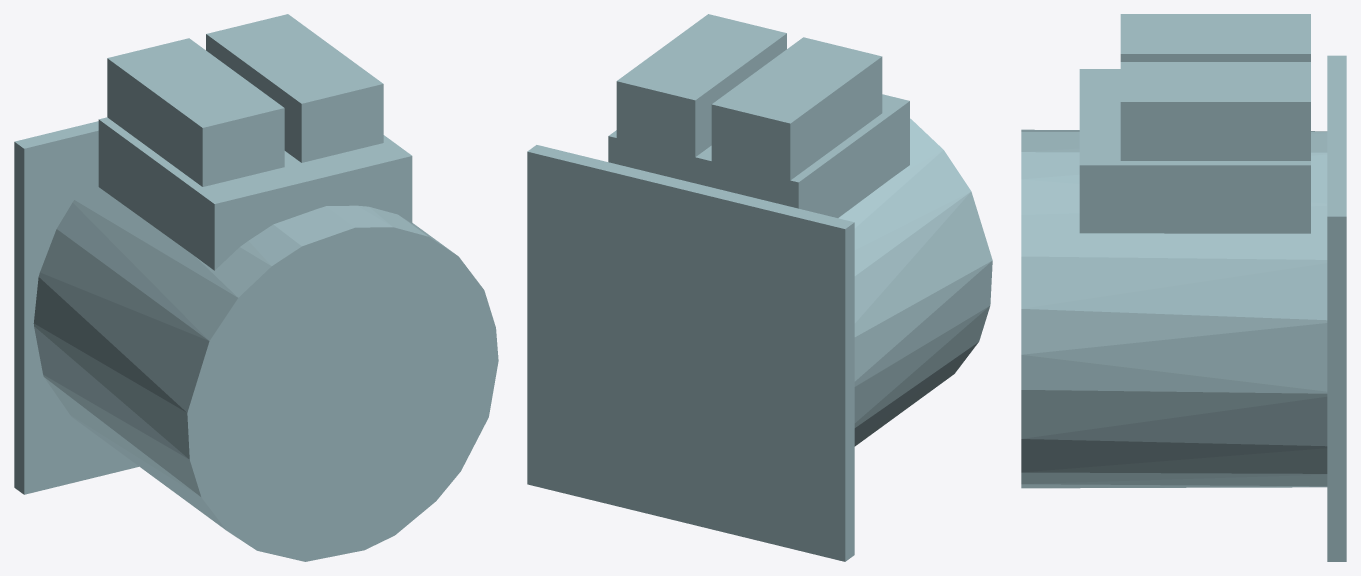
3 views of the same model, side by side, from view 1: azimuth 30°, elevation 25°; view 2: azimuth 150°, elevation 25°; view 3: azimuth 270°, elevation 25° (orthographic). The views are drawn at different scales.
Visible parts, largest first — view 1: s1; view 2: s1; view 3: s1.
Boxes of the visible parts, bbox=[...] form: s1: bbox=[14, 14, 498, 561]; s1: bbox=[527, 14, 992, 561]; s1: bbox=[1021, 14, 1346, 561].
Size of the model in its own units: 0.234 by 0.287 by 0.2.
